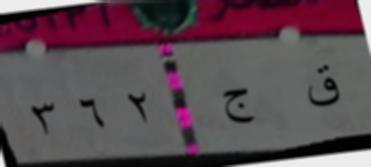2: (119, 81, 156, 128)
3: (30, 97, 59, 140)
6: (77, 87, 108, 132)
jeem: (212, 82, 262, 131)
qaaf: (304, 57, 341, 122)
